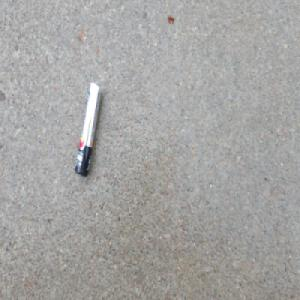Battery: (73, 79, 102, 177)
